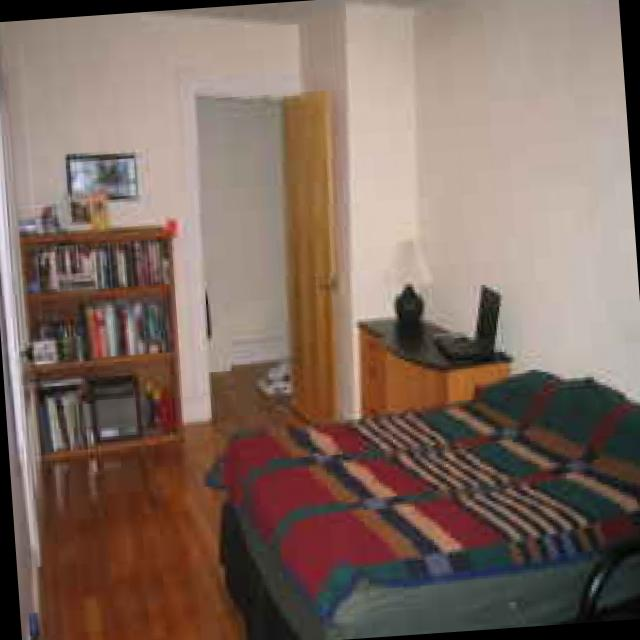bed -occluded-: (205, 366, 640, 640)
books crop: (44, 235, 167, 289), (83, 300, 174, 355)
bookshelf: (25, 223, 185, 458)
ceiling beam: (155, 0, 424, 24)
door bars: (283, 90, 331, 420)
floor -X: (31, 358, 640, 640)
lamp crop: (389, 247, 432, 336)
night table: (358, 317, 512, 413)
picture crop: (70, 152, 138, 202)
wall clock: (13, 11, 304, 448), (414, 0, 640, 509), (0, 21, 53, 640), (354, 11, 422, 418), (200, 96, 288, 369), (299, 9, 357, 419)
